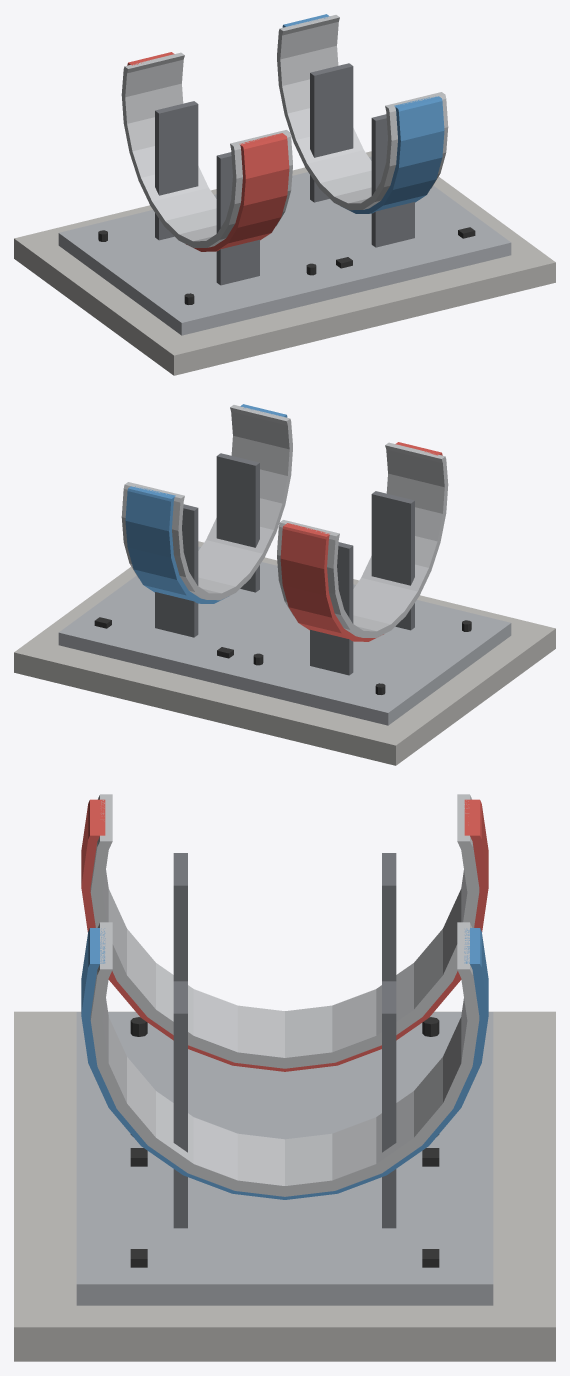
File: saddle support.fbx
The picture shows the model from 3 angles, top to bottom: view 1: azimuth 30°, elevation 25°; view 2: azimuth 150°, elevation 25°; view 3: azimuth 270°, elevation 25°; orthographic projection. The views are drawn at different scales.
Visible parts, largest first — view 1: Condenser_Saddle_Supports, Condenser_Saddle_ConcretePads; view 2: Condenser_Saddle_Supports, Condenser_Saddle_ConcretePads; view 3: Condenser_Saddle_Supports, Condenser_Saddle_ConcretePads.
Part boxes in pixels (<box>): Condenser_Saddle_Supports: <box>58,14,511,335</box>; Condenser_Saddle_ConcretePads: <box>14,151,555,375</box>; Condenser_Saddle_Supports: <box>58,404,511,725</box>; Condenser_Saddle_ConcretePads: <box>14,541,555,765</box>; Condenser_Saddle_Supports: <box>76,794,493,1305</box>; Condenser_Saddle_ConcretePads: <box>14,1011,555,1361</box>.
Bounding box in the file's own units: 158 × 75 × 114.
